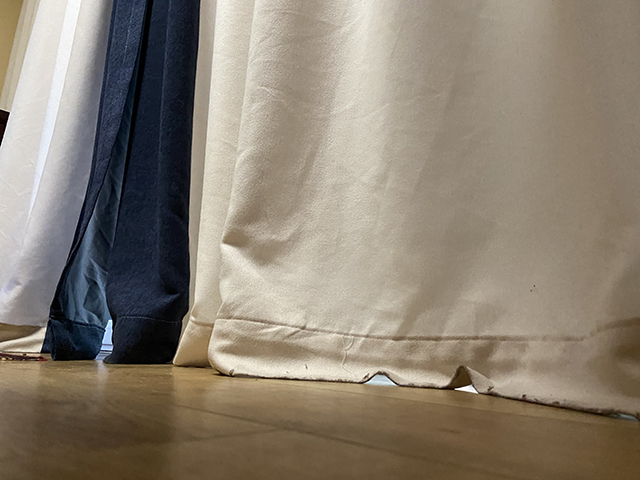curtain: (1, 1, 638, 417)
